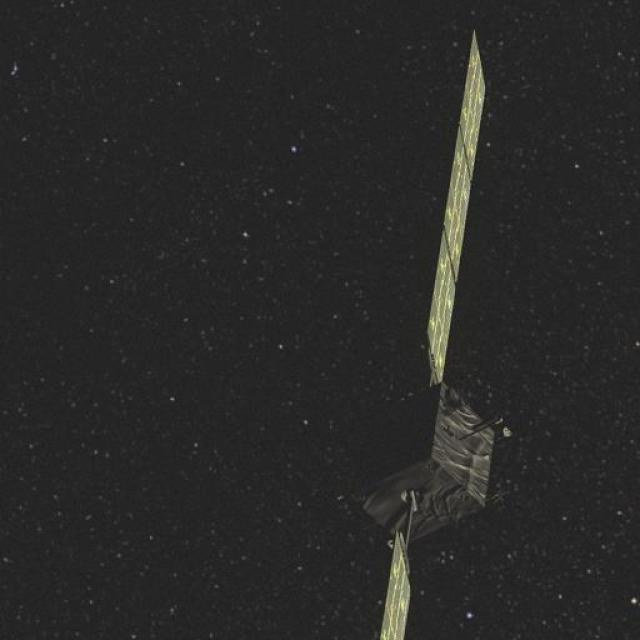smart_1: (328, 147, 524, 617)
